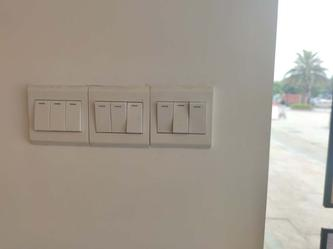switch: (94, 101, 112, 132), (33, 99, 50, 131), (126, 102, 143, 134), (156, 101, 173, 133), (190, 101, 206, 134), (173, 101, 189, 133), (49, 100, 66, 130), (67, 100, 81, 133), (112, 101, 126, 133)
